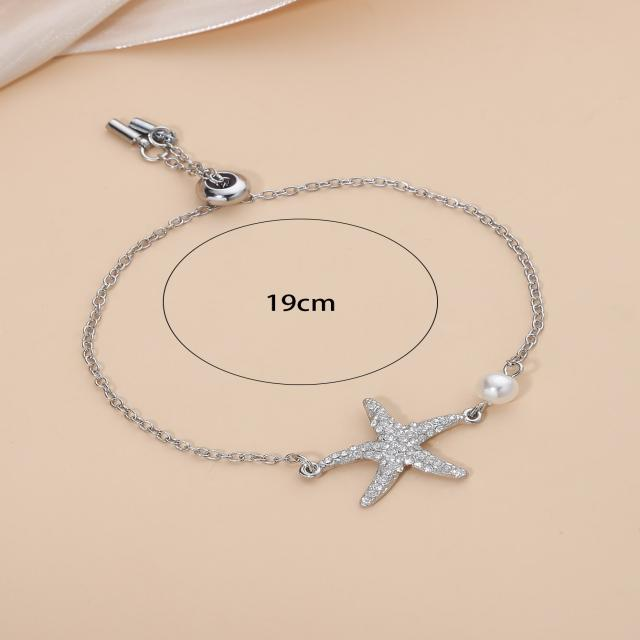bracelet: (27, 49, 640, 610)
